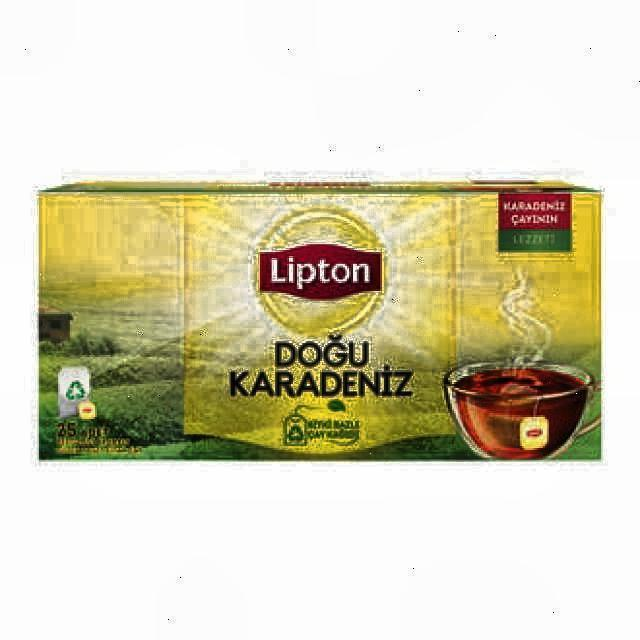cardboard: (35, 180, 603, 463)
